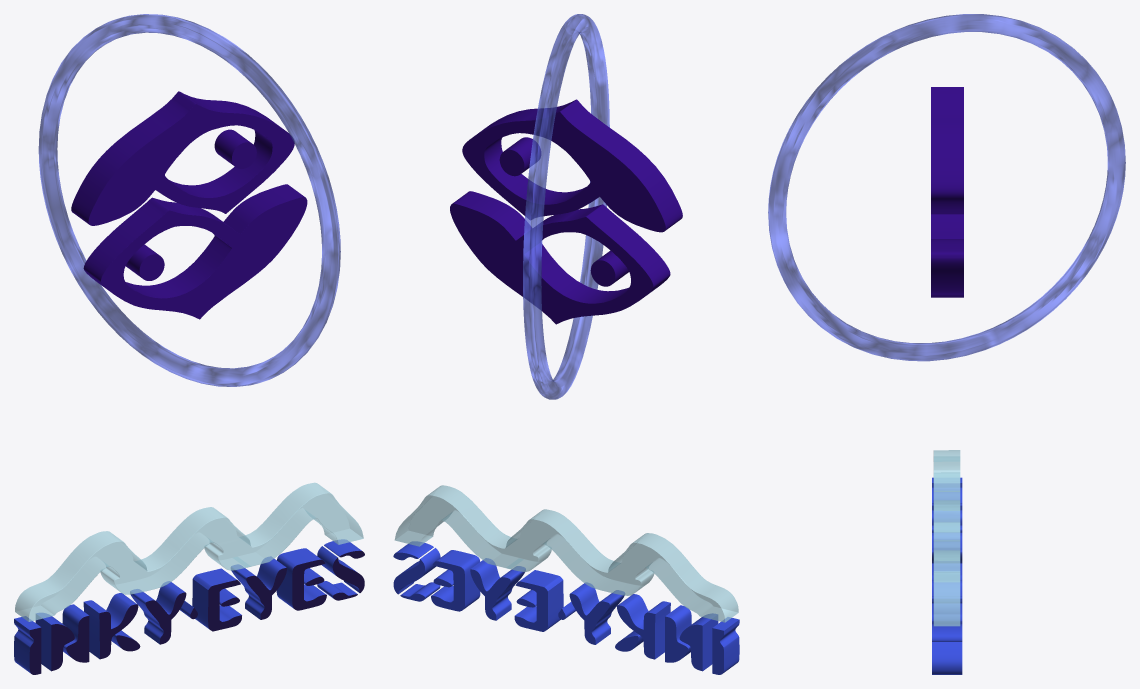
Rendered from rogotest.glb.
3 views of the same model, side by side, from view 1: azimuth 30°, elevation 25°; view 2: azimuth 150°, elevation 25°; view 3: azimuth 270°, elevation 25° (orthographic). The views are drawn at different scales.
Visible parts, largest first — view 1: O, bi2_v18, bi2_v19, fish2, fish1, fish_dot, fish_dot_(1); view 2: bi2_v18, bi2_v19, fish2, fish1, O, fish_dot, fish_dot_(1); view 3: O, bi2_v19, bi2_v18, fish1, fish2.
Boxes of the visible parts, <box> form: O: <box>38,14,340,386</box>; bi2_v18: <box>14,539,364,674</box>; bi2_v19: <box>15,482,363,621</box>; fish2: <box>83,184,307,319</box>; fish1: <box>71,91,294,225</box>; fish_dot: <box>214,129,256,168</box>; fish_dot_(1): <box>126,244,164,280</box>; bi2_v18: <box>393,541,739,674</box>; bi2_v19: <box>394,485,738,622</box>; fish2: <box>450,191,670,324</box>; fish1: <box>462,99,682,232</box>; O: <box>523,14,609,399</box>; fish_dot: <box>499,137,540,176</box>; fish_dot_(1): <box>590,250,628,286</box>; O: <box>768,14,1125,361</box>; bi2_v19: <box>933,450,960,626</box>; bi2_v18: <box>932,477,962,674</box>; fish1: <box>931,87,963,214</box>; fish2: <box>931,214,963,297</box>.
Bounding box in the file's own units: 14.05 × 24.31 × 13.48.
